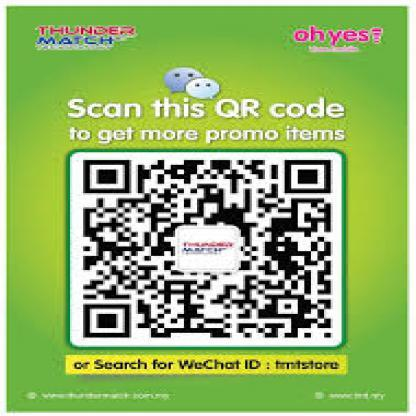qr_code: (82, 159, 331, 338)
